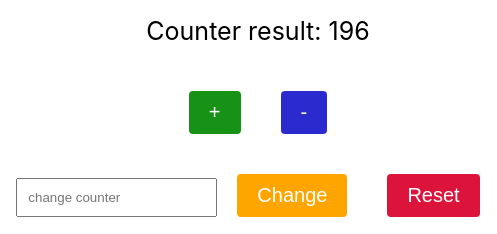
renders the counter › should reset the counter to default value
Click the button with test id "reset-btn" at [433, 196], box x1=387 y1=174 x2=479 y2=217
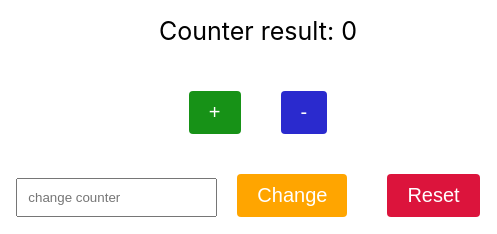
Now the text "0" is shown, box x1=341 y1=16 x2=357 y2=46
